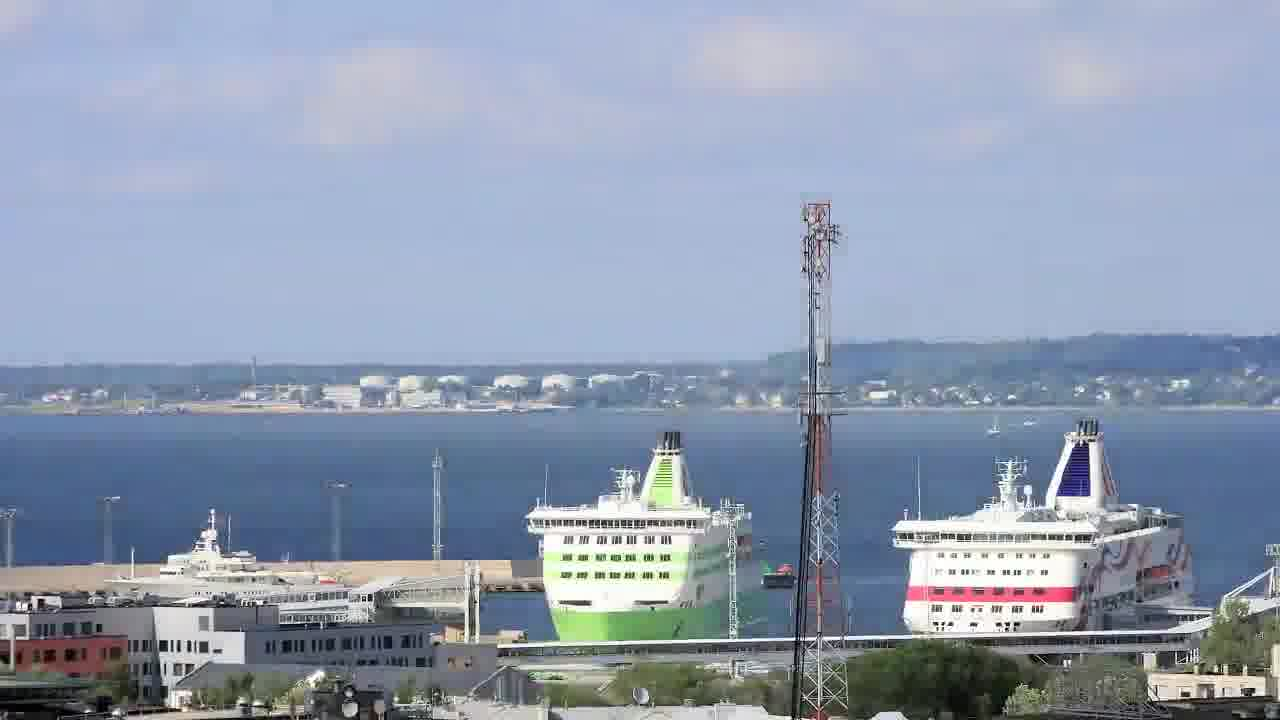type-3: (868, 415, 1225, 638), (512, 433, 772, 669), (84, 511, 353, 609)
